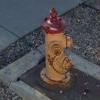a fire hydrant: (43, 12, 70, 85)
